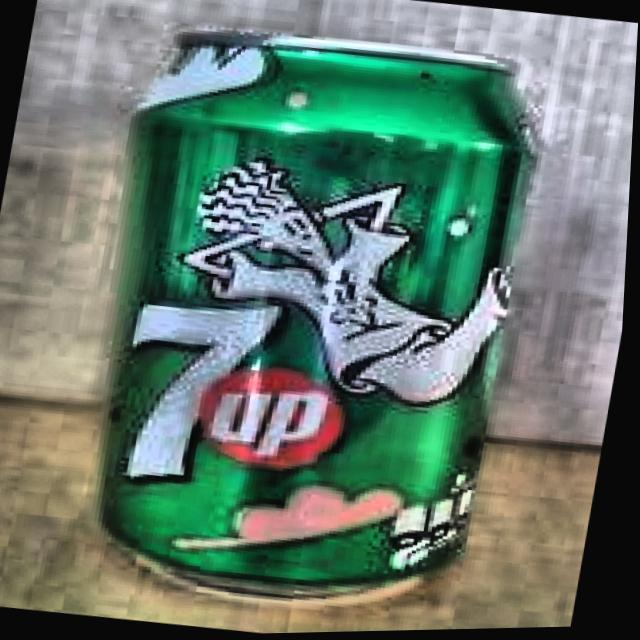Cans: (20, 0, 587, 638)
